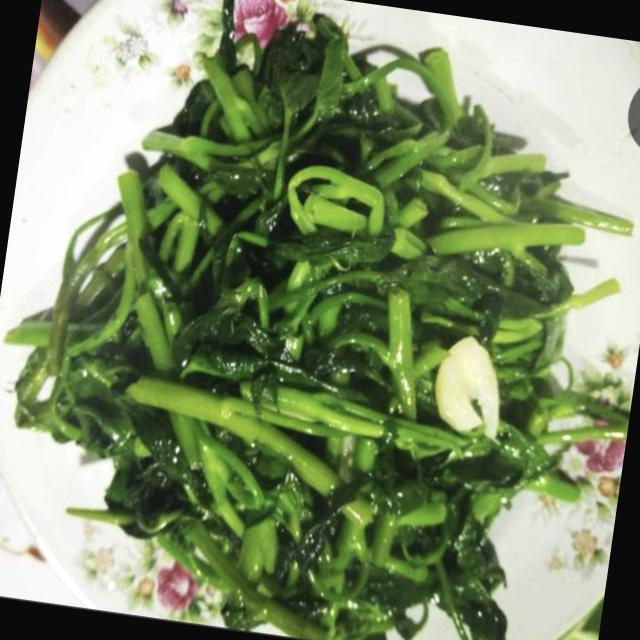rau muong: (5, 0, 634, 640)
